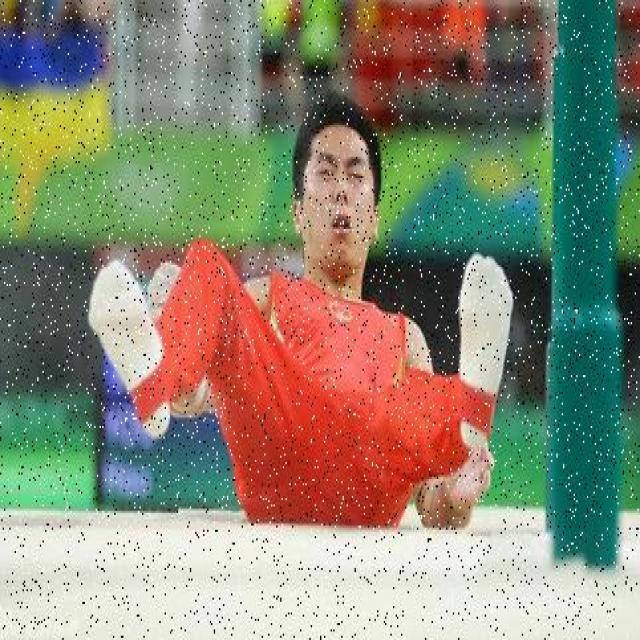fall: (90, 110, 509, 528)
